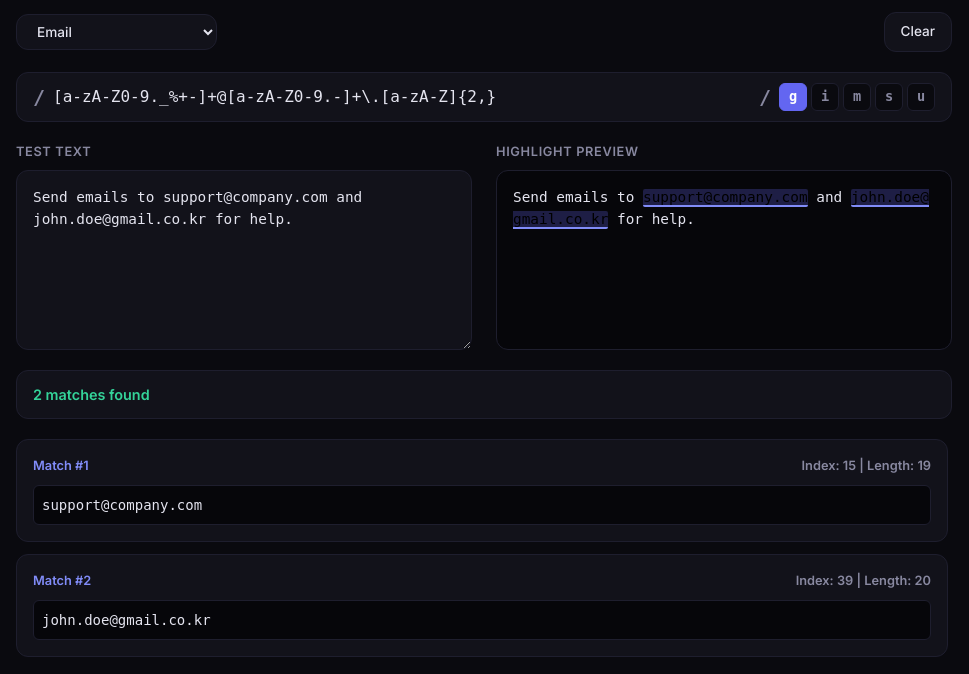
it: RegexTool Component › updates matches when pattern or test text changes
Replace the text in the field named "Regular expression pattern" with "\\d+" at (402, 97), box 53,83 -> 751,110
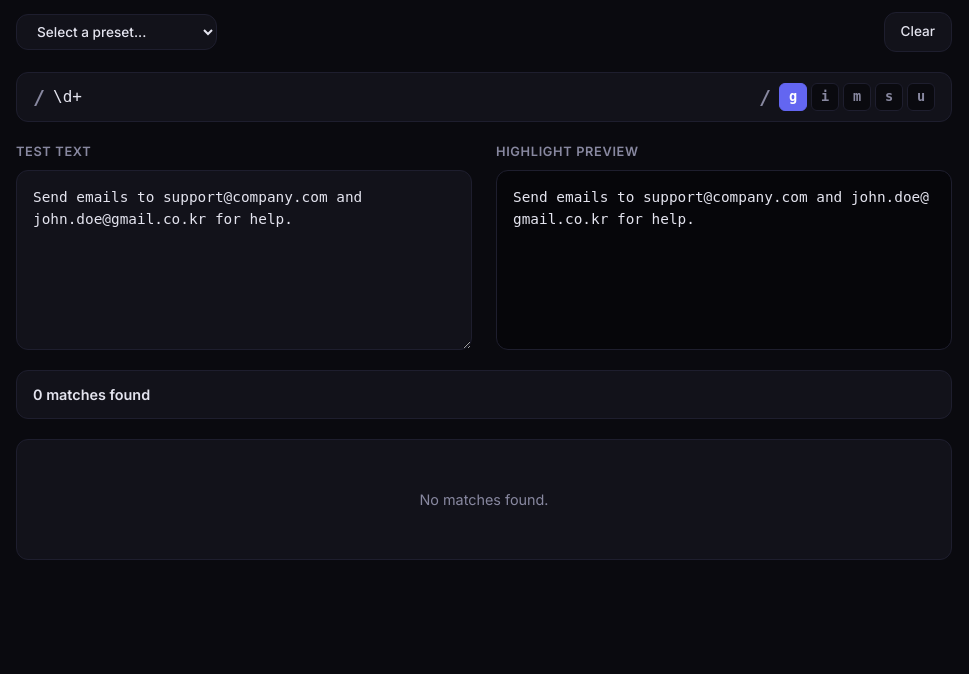
Replace the text in the text box labelled "Test Text" with "Item 123 and 456" at (244, 260), box 16,170 -> 472,350
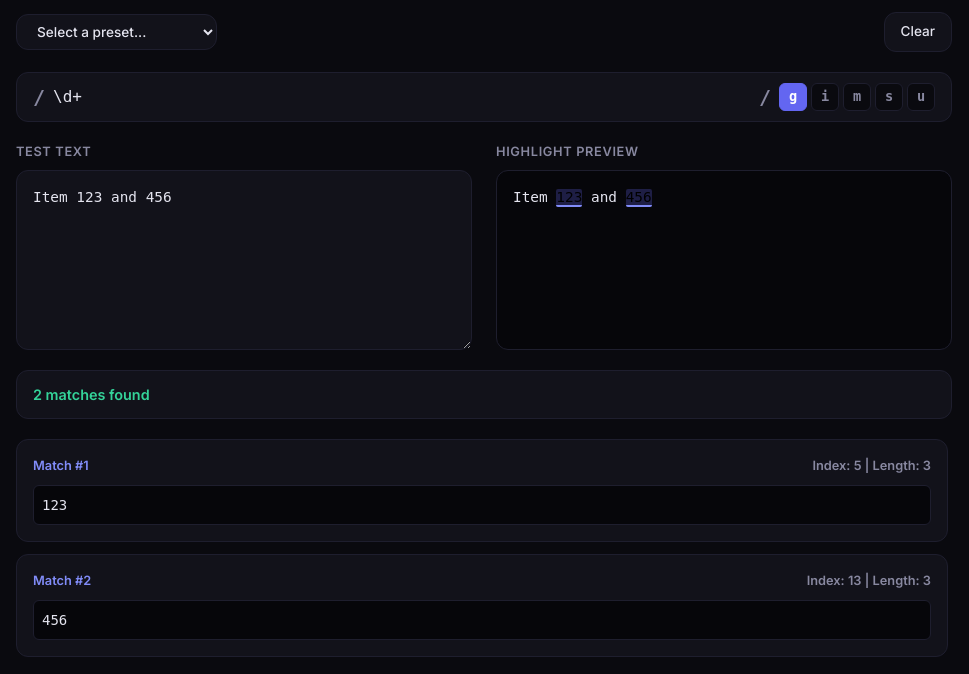
Result: the text "2 matches found" is shown at 33,383 -> 150,406
Result: the text "123" next to "Item" is shown at 556,189 -> 582,205
Result: the text "456" next to "and" is shown at 626,189 -> 652,205
